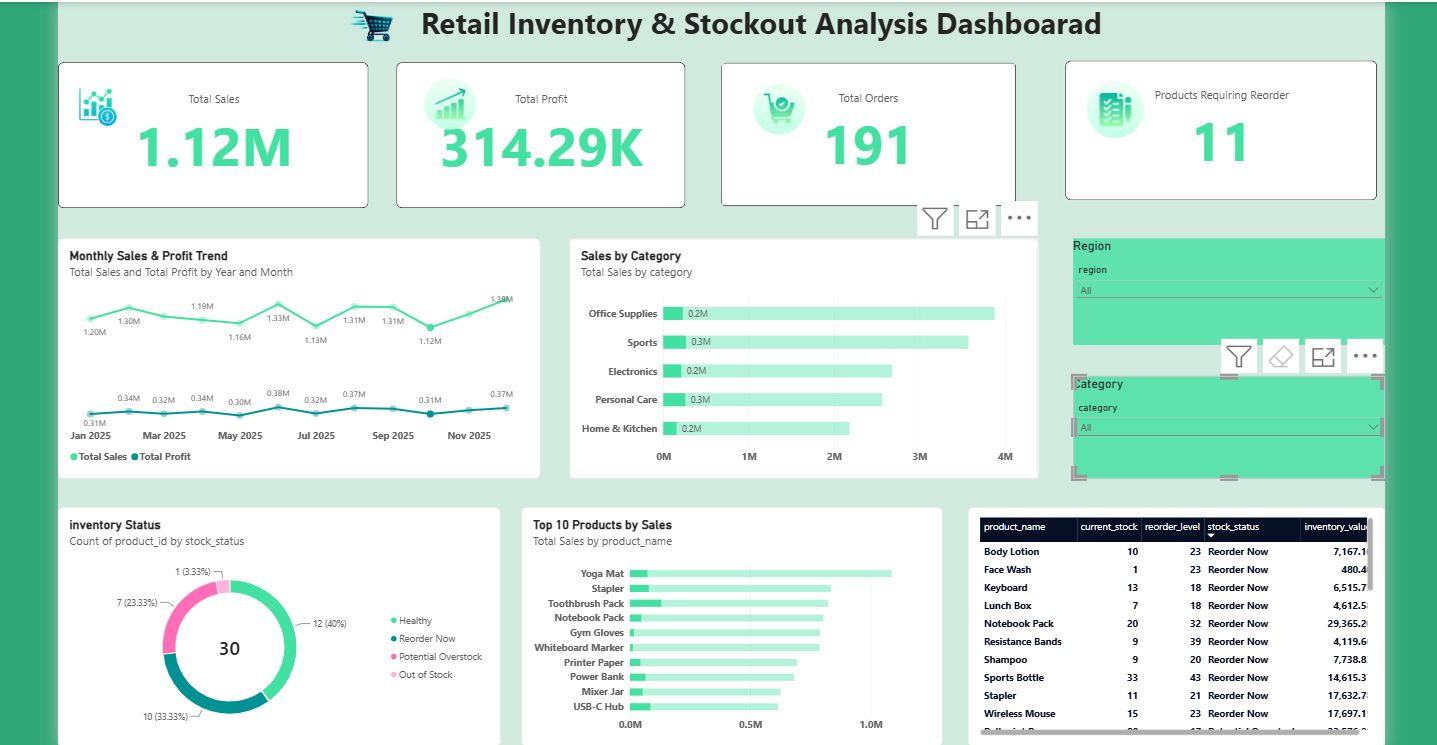

The dashboard page shown, as its layout file describes it:
{"tool":"powerbi","page":{"name":"Page 1","canvas":[1920,1080],"ordinal":0},"visuals":[{"type":"cardVisual","fields":{"Data":["sales_transactions.Total Sales"]},"box":[0,86.2,449,211.7],"z":0},{"type":"cardVisual","fields":{"Data":["sales_transactions.Total Profit"]},"box":[488.6,86.2,418.1,211.7],"z":1000},{"type":"cardVisual","fields":{"Data":["sales_transactions.Total Orders"]},"box":[959.8,87.3,428.8,209.4],"z":2000},{"type":"cardVisual","fields":{"Data":["inventory_snapshot.Products Requiring Reorder"]},"box":[1445.9,74.8,473.7,224.4],"z":3000},{"type":"lineChart","title":"Monthly Sales & Profit Trend","fields":{"Category":["sales_transactions.order_date.Variation.Date Hierarchy.Year","sales_transactions.order_date.Variation.Date Hierarchy.Month"],"Y":["sales_transactions.Total Sales","sales_transactions.Total Profit"]},"box":[0,342.3,697.7,347.5],"z":4000},{"type":"clusteredBarChart","title":"Sales by Category","fields":{"Category":["product_master.category"],"Y":["sales_transactions.Total Sales"]},"box":[739.5,342.3,679.4,347.5],"z":5000},{"type":"donutChart","title":"inventory Status","fields":{"Category":["inventory_snapshot.stock_status"],"Y":["CountNonNull(inventory_snapshot.product_id)"]},"box":[0,731.6,640.2,347.5],"z":6000},{"type":"slicer","title":"Region","fields":{"Values":["sales_transactions.region"]},"box":[1468.5,342.3,452.1,154.2],"z":7000},{"type":"slicer","title":"Category","fields":{"Values":["product_master.category"]},"box":[1468.5,540.9,452.1,148.9],"z":8000},{"type":"clusteredBarChart","title":"Top 10 Products by Sales","fields":{"Category":["product_master.product_name"],"Y":["sales_transactions.Total Sales"]},"box":[671.5,731.6,608.8,347.5],"z":9000},{"type":"tableEx","fields":{"Values":["inventory_snapshot.product_name","inventory_snapshot.current_stock","inventory_snapshot.reorder_level","inventory_snapshot.stock_status","inventory_snapshot.inventory_value"]},"box":[1317,731.6,603.6,347.5],"z":10000},{"type":"textbox","box":[526,0,1064.5,87.3],"z":11000},{"type":"image","box":[1004.7,109.7,74.8,89.7],"z":12000},{"type":"image","box":[1488.3,109.7,82.3,92.2],"z":13000},{"type":"image","box":[29.9,109.7,57.3,84.8],"z":14000},{"type":"image","box":[526,109.7,84.8,74.8],"z":15000},{"type":"image","box":[392,0,117.6,62.7],"z":16000}]}

Visuals, with their boxes on the page's 1920x1080 design canvas (x1, y1, x2, y2). These are canvas units, not pixel positions in the 1437x745 screenshot, which may show the page scaled, cropped or inside an application window:
cardVisual - sales_transactions.Total Sales: pyautogui.locateOnScreen(0, 86, 449, 298)
cardVisual - sales_transactions.Total Profit: pyautogui.locateOnScreen(489, 86, 907, 298)
cardVisual - sales_transactions.Total Orders: pyautogui.locateOnScreen(960, 87, 1389, 297)
cardVisual - inventory_snapshot.Products Requiring Reorder: pyautogui.locateOnScreen(1446, 75, 1920, 299)
"Monthly Sales & Profit Trend" lineChart: pyautogui.locateOnScreen(0, 342, 698, 690)
"Sales by Category" clusteredBarChart: pyautogui.locateOnScreen(740, 342, 1419, 690)
"inventory Status" donutChart: pyautogui.locateOnScreen(0, 732, 640, 1079)
"Region" slicer: pyautogui.locateOnScreen(1468, 342, 1921, 496)
"Category" slicer: pyautogui.locateOnScreen(1468, 541, 1921, 690)
"Top 10 Products by Sales" clusteredBarChart: pyautogui.locateOnScreen(672, 732, 1280, 1079)
tableEx - inventory_snapshot.product_name x inventory_snapshot.current_stock: pyautogui.locateOnScreen(1317, 732, 1921, 1079)
textbox: pyautogui.locateOnScreen(526, 0, 1590, 87)
image: pyautogui.locateOnScreen(1005, 110, 1080, 199)
image: pyautogui.locateOnScreen(1488, 110, 1571, 202)
image: pyautogui.locateOnScreen(30, 110, 87, 194)
image: pyautogui.locateOnScreen(526, 110, 611, 184)
image: pyautogui.locateOnScreen(392, 0, 510, 63)
